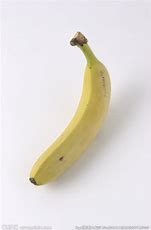fruit_banana: (28, 31, 112, 189)
